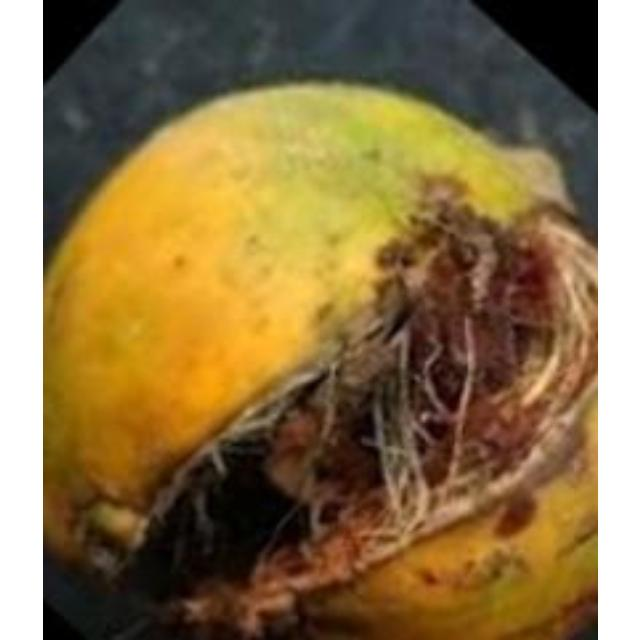damaged: (42, 82, 594, 637)
